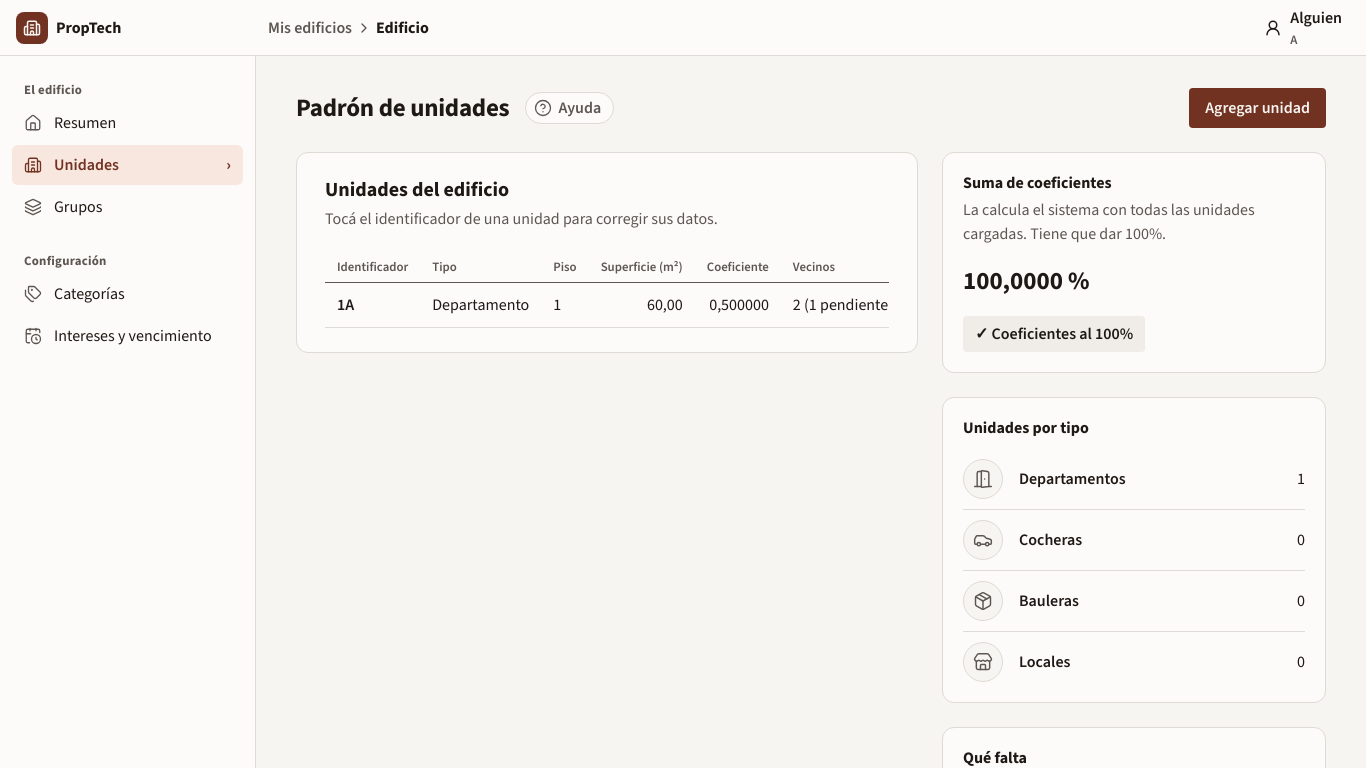
Test: PantallaPadron, vecinos (7.4) › con vecinosPorUnidad: columna con cantidad y pendientes; sección con Revocar y Quitar
This screenshot has width=1366, height=768.
Expected: the text "2 (1 pendiente)" is shown, [781,283,889,328]
Click the button "1A". click: (346, 305)
box: [337,295,354,314]
(page scrolled)
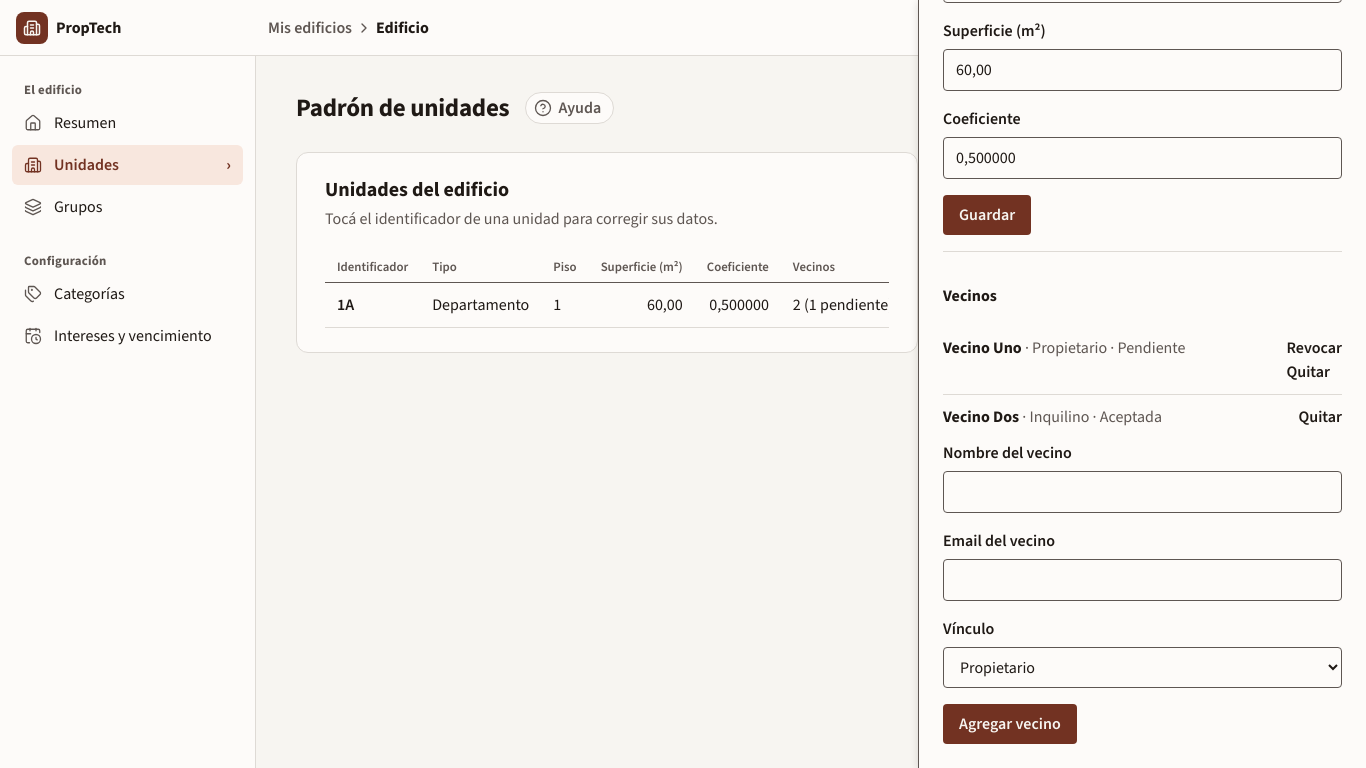
Expected: the heading "Vecinos" is shown, [943,285,997,306]
Expected: the text "· Propietario · Pendiente" is shown, [1022,337,1186,358]
Expected: the button "Revocar" is shown, [1286,338,1342,357]
